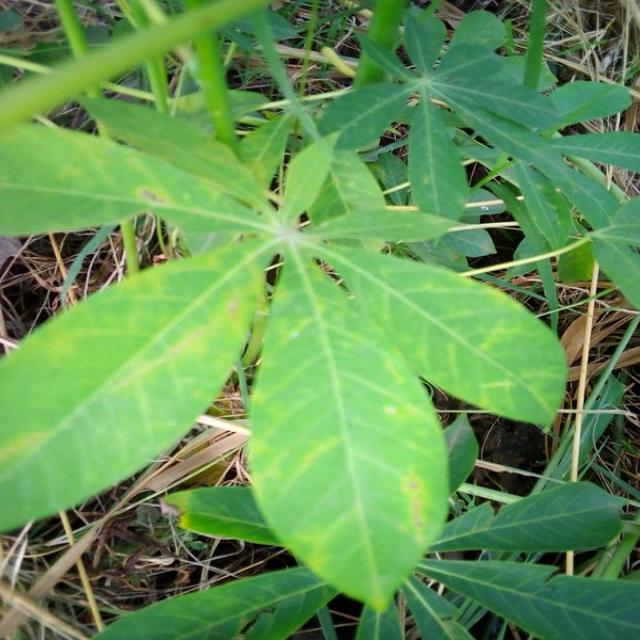cassava leaf: (1, 2, 638, 622), (2, 233, 270, 534), (246, 252, 452, 611), (314, 239, 569, 434)
